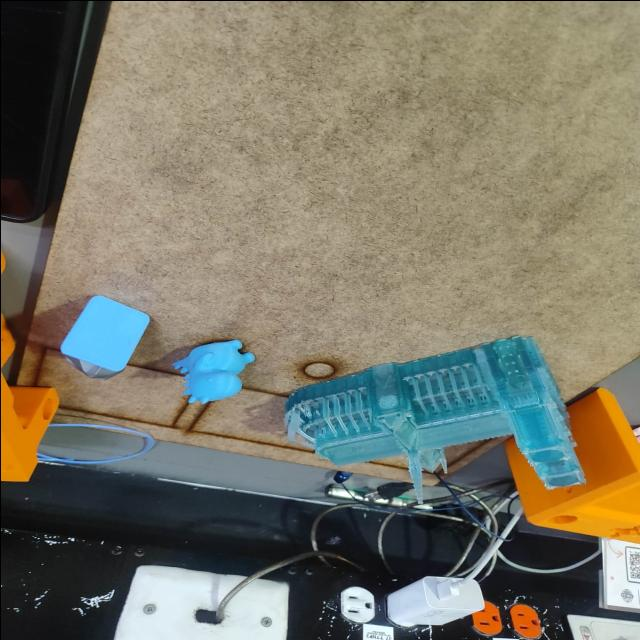DINO: (165, 334, 252, 418)
